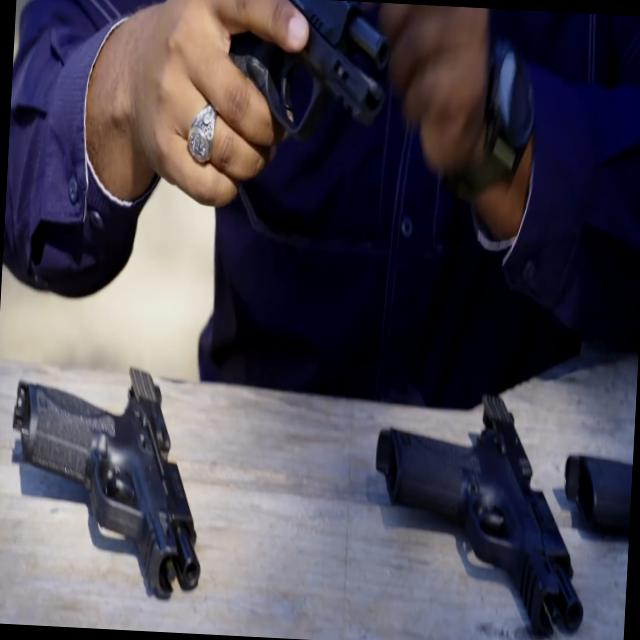handgun: (348, 371, 610, 639), (0, 345, 237, 607)
